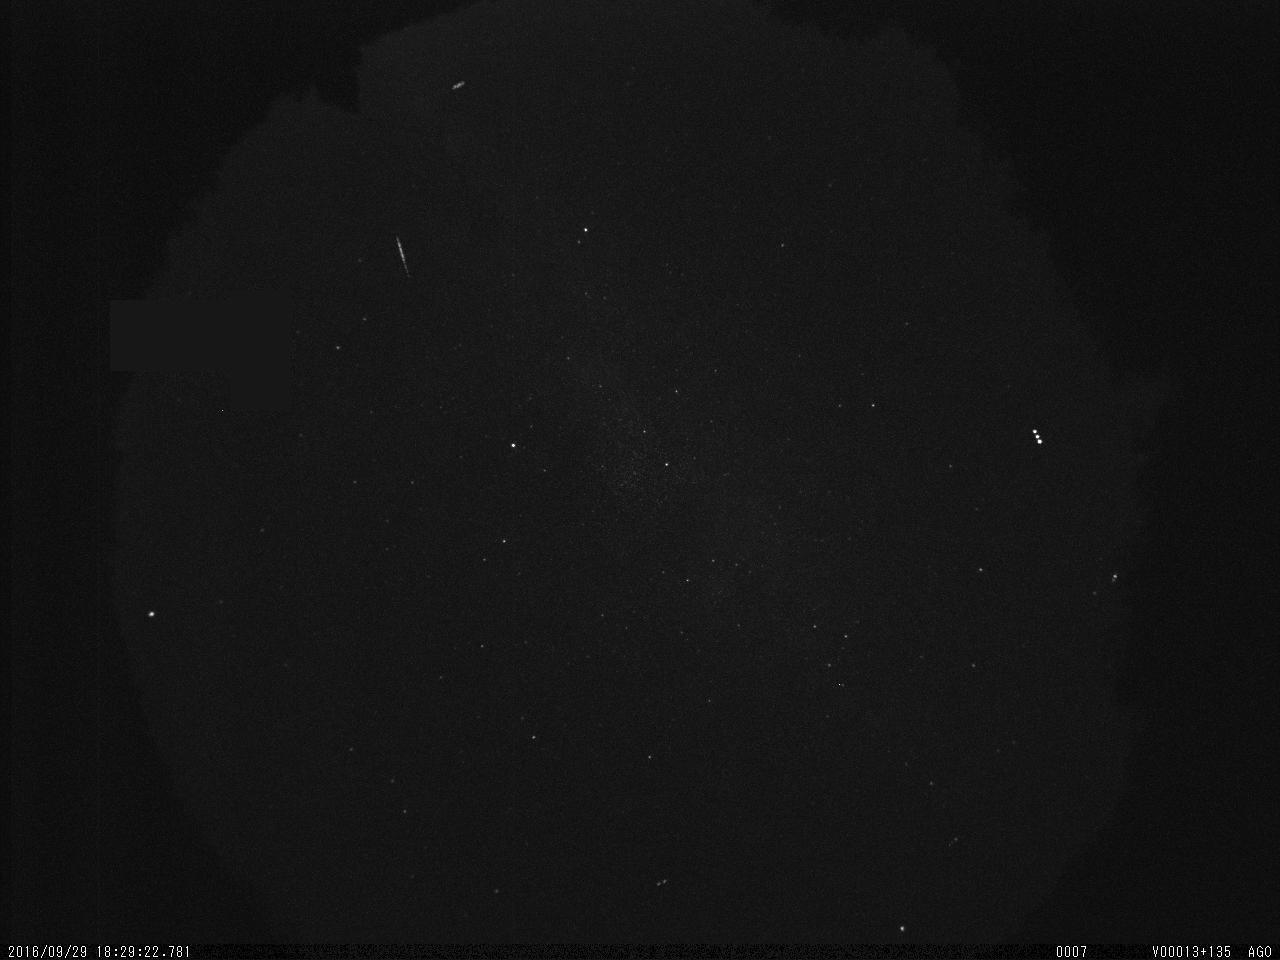meteor: (389, 225, 418, 286)
satelite: (1030, 421, 1047, 452), (446, 72, 469, 94)
